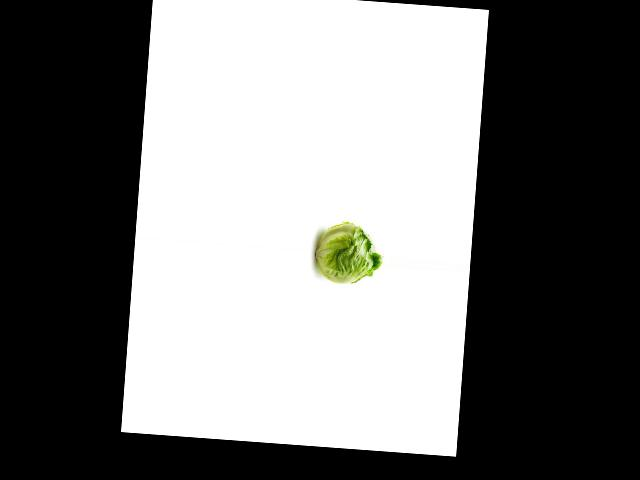lettuce: (310, 214, 385, 288)
